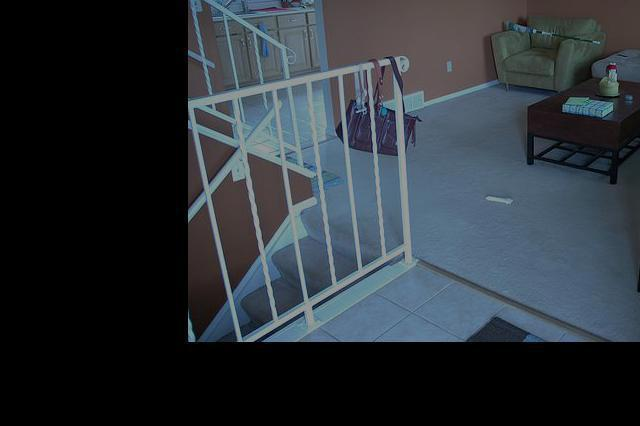Escaleras: (188, 51, 400, 341), (188, 0, 315, 176)
Lavaplatos: (199, 0, 260, 21)
